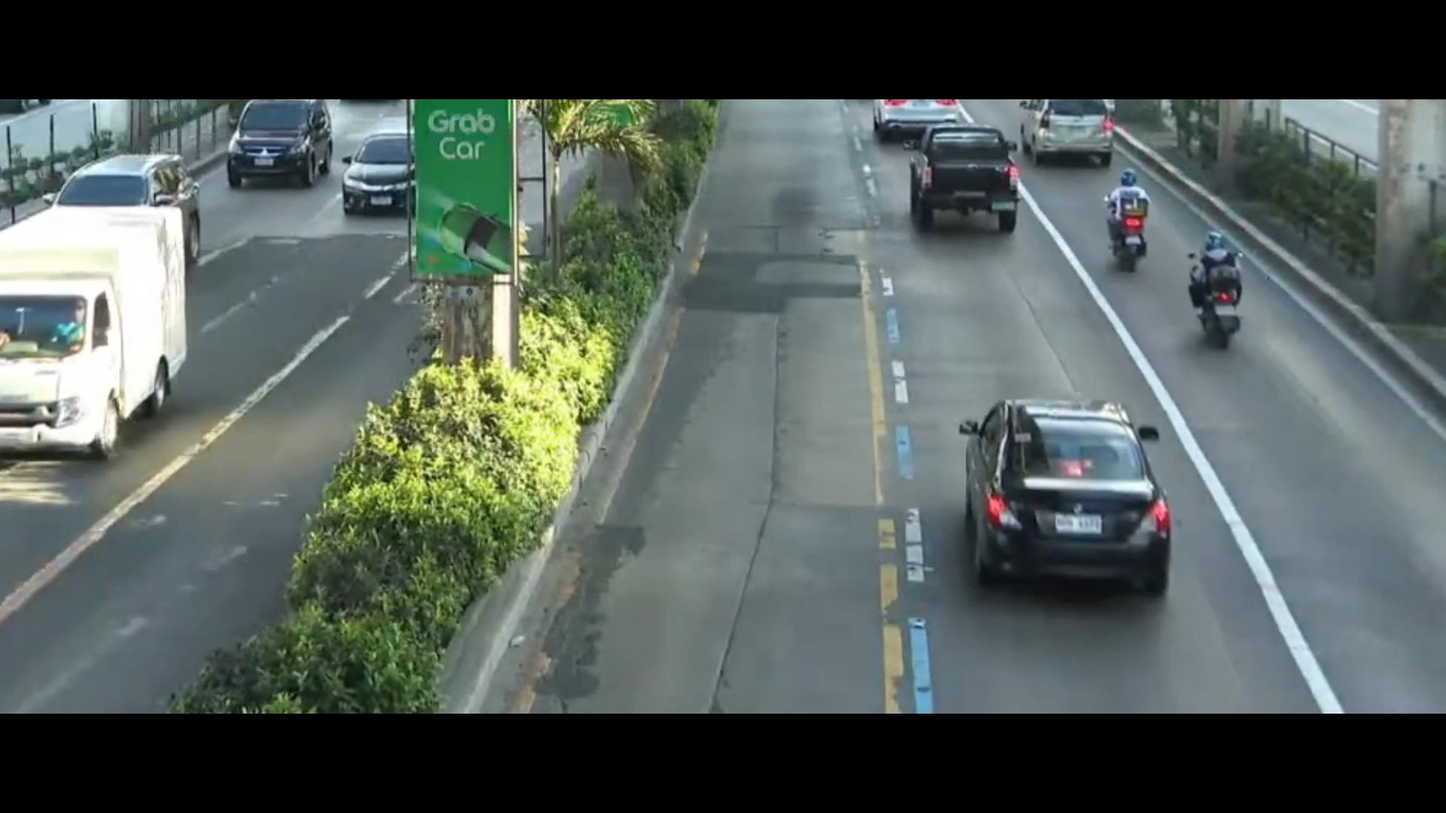Motorcycle: (1186, 230, 1275, 339), (1088, 174, 1156, 277)
Pickup: (893, 113, 1037, 241)
SUV: (43, 153, 226, 267), (222, 104, 337, 190), (1022, 89, 1132, 176), (337, 117, 412, 212)
Sedan: (898, 379, 1241, 622)
Truck: (0, 196, 202, 520)
